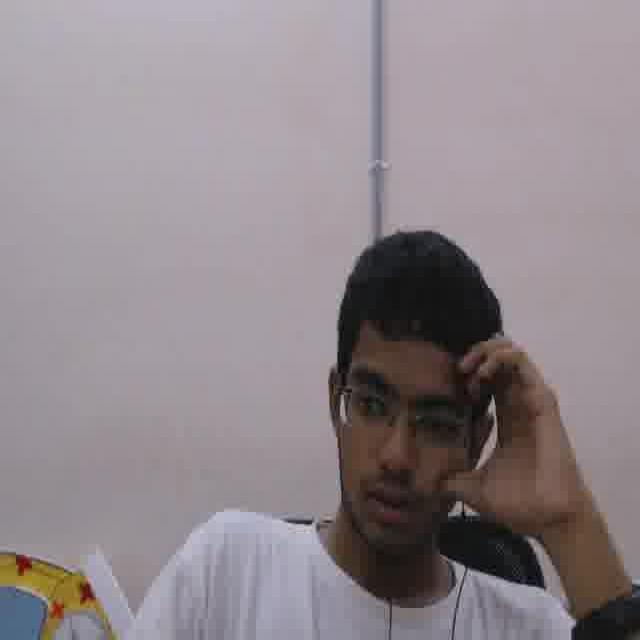Frustration: (336, 324, 466, 555)
